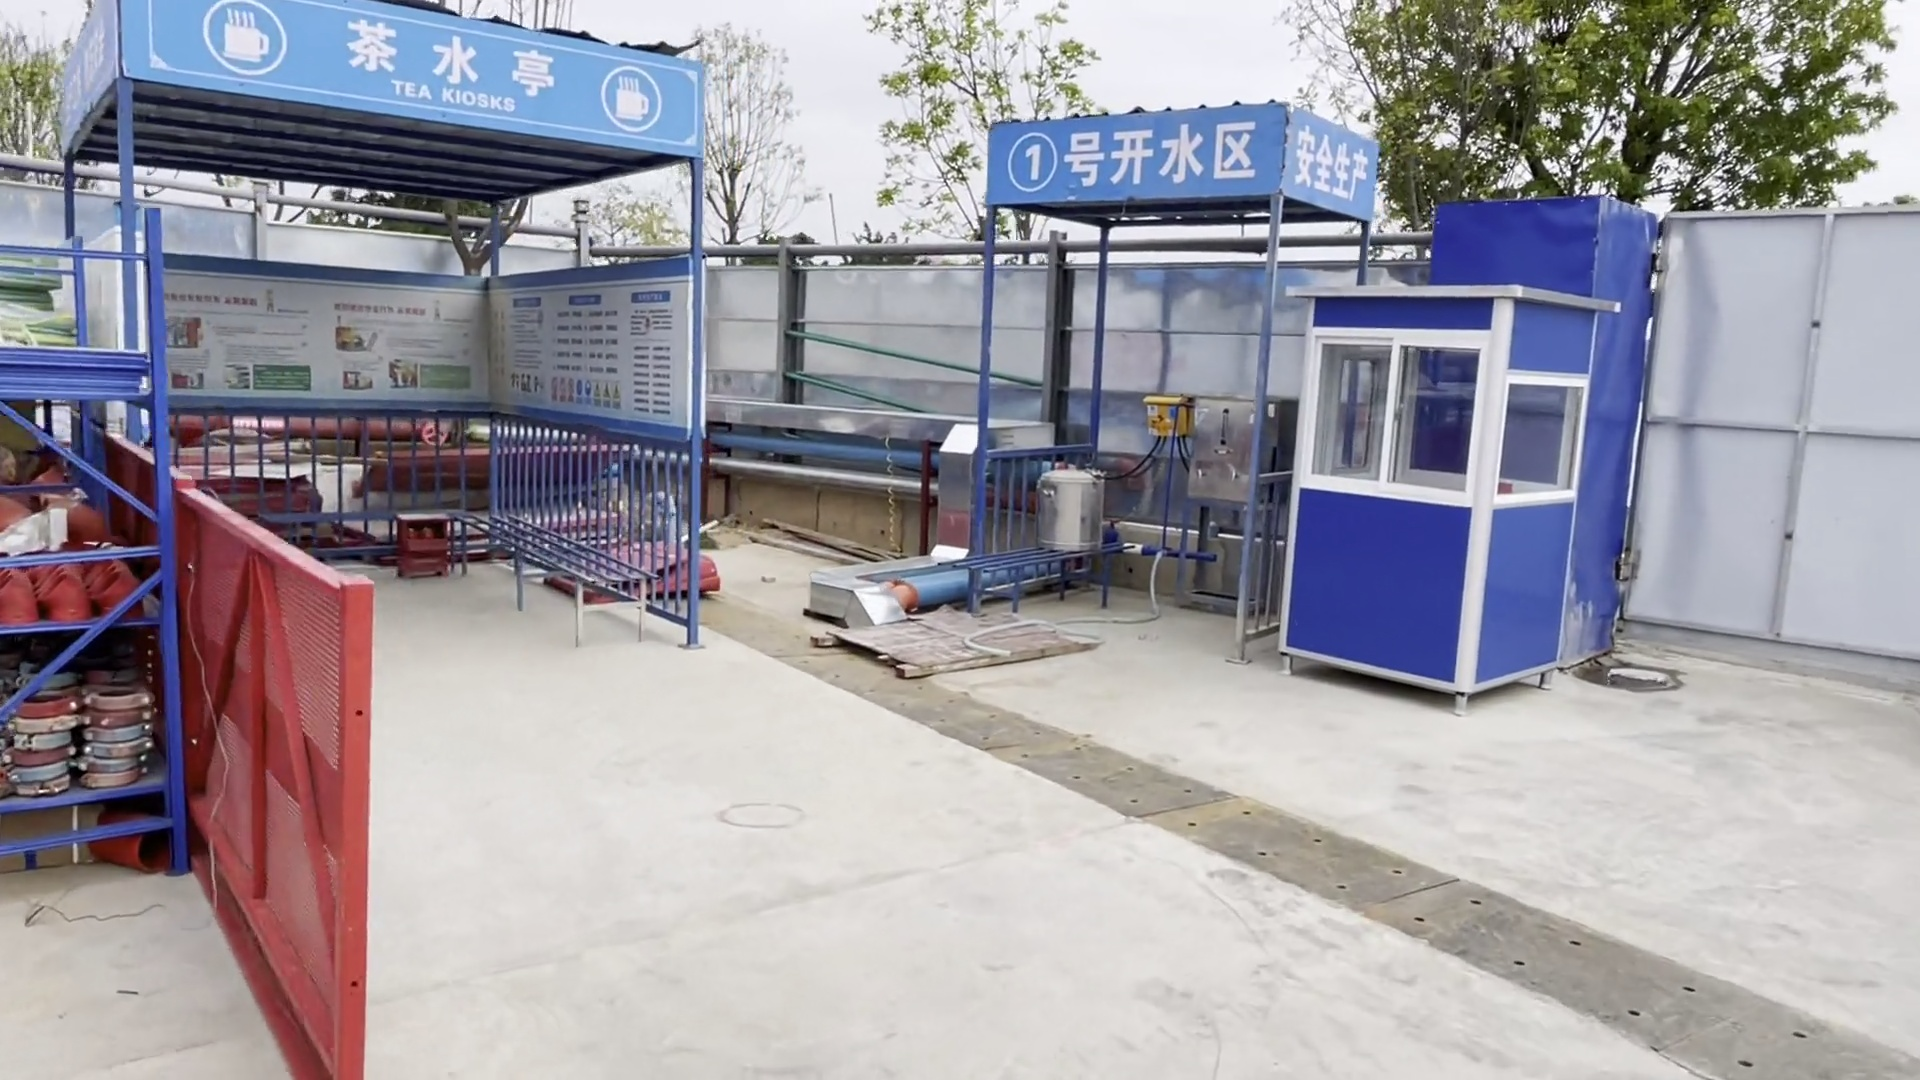ebox: (1145, 389, 1185, 435)
fence: (165, 484, 372, 1080)
slogan: (57, 1, 117, 157), (1280, 115, 1374, 211)
